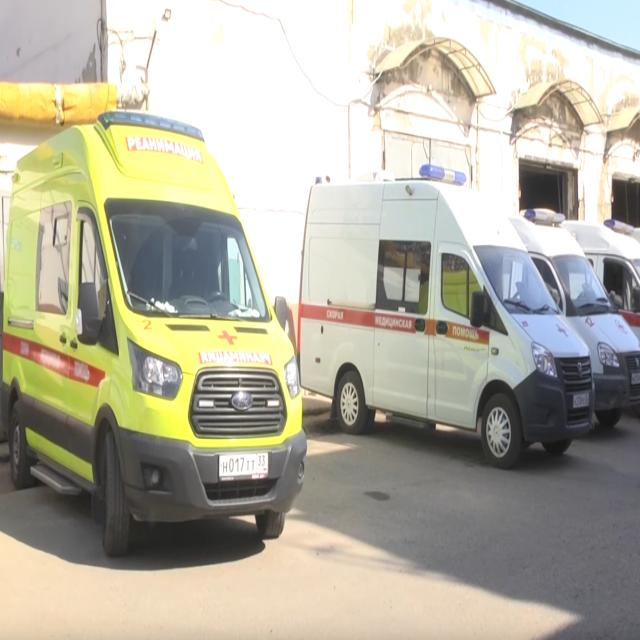ambulance: (298, 161, 596, 470), (507, 206, 640, 431), (564, 215, 640, 347)
intensive care unit: (4, 110, 309, 561)
